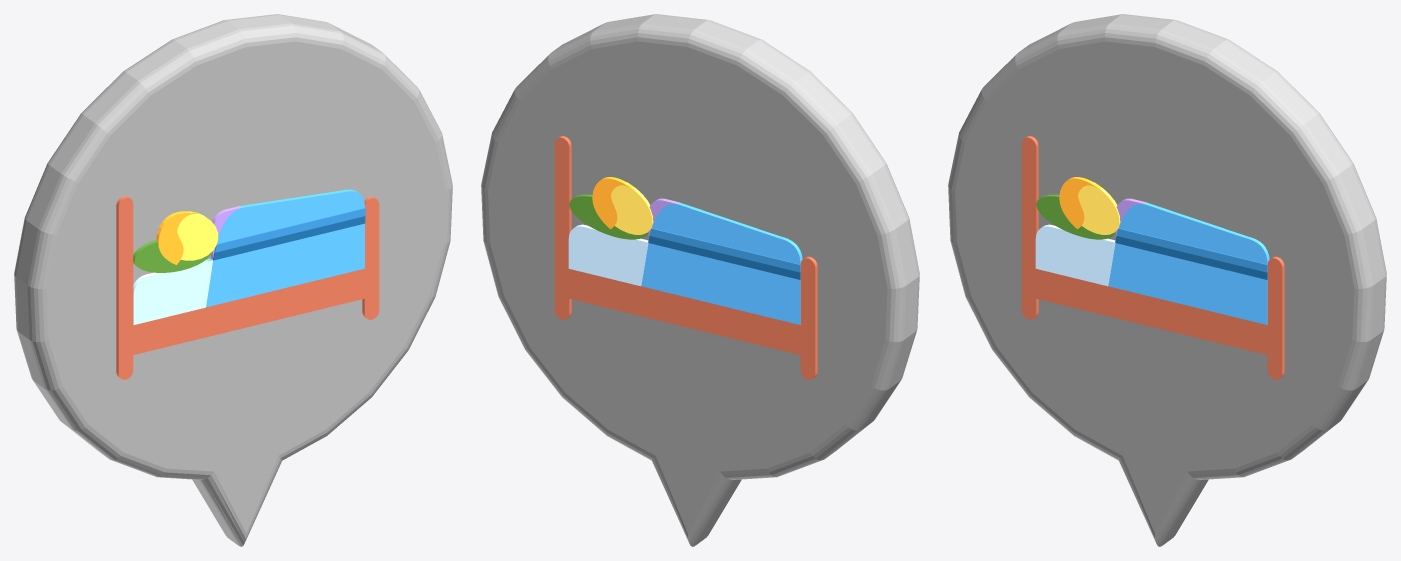
File: sleeping_accommodation.glb
3 views of the same model, side by side, from view 1: azimuth 30°, elevation 25°; view 2: azimuth 150°, elevation 25°; view 3: azimuth 330°, elevation 25° (orthographic).
Visible parts, largest first — view 1: EmotionBubble; view 2: EmotionBubble; view 3: EmotionBubble.
Boxes of the visible parts, x1=… form: EmotionBubble: x1=14, y1=14, x2=452, y2=546; EmotionBubble: x1=481, y1=14, x2=919, y2=546; EmotionBubble: x1=948, y1=14, x2=1386, y2=546.
Bounding box in the file's own units: 5.29 × 6.16 × 0.718.
